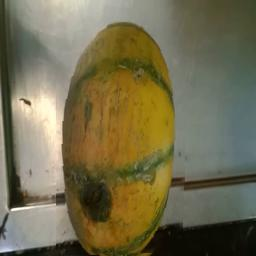Melon Semirotten: (56, 20, 192, 256)
